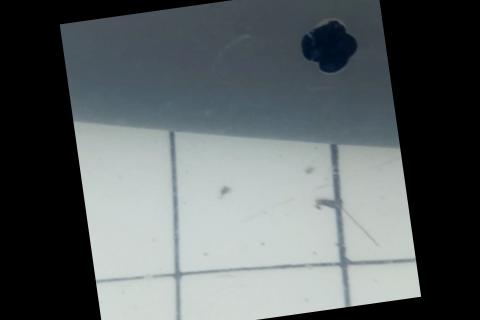kebocoran: (292, 11, 362, 79)
